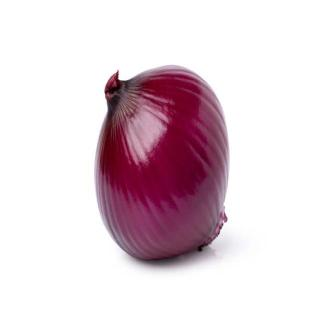Bawang Merah: (92, 63, 234, 263)
